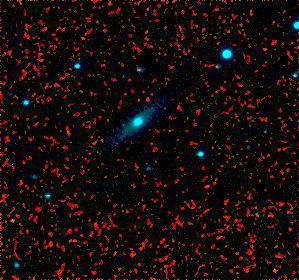star: (192, 171, 222, 201)
